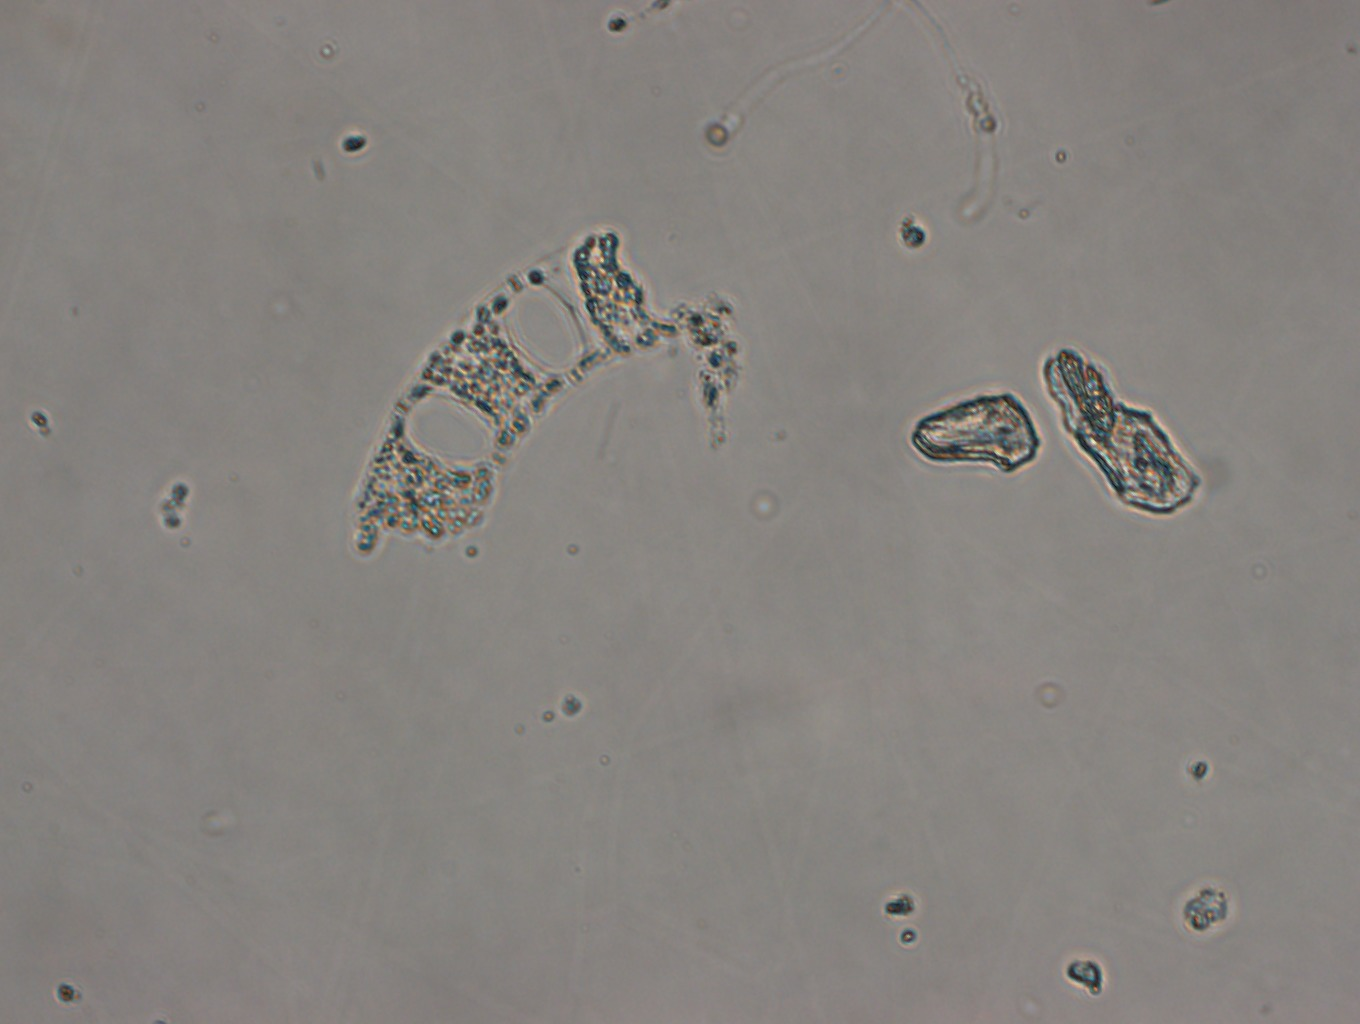eucampia: (358, 228, 658, 547)
